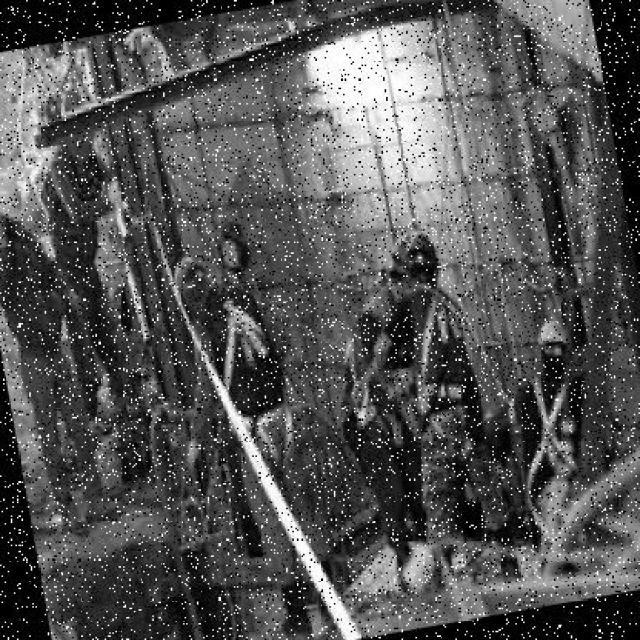Arnes_seguridad: (194, 280, 311, 477), (395, 268, 491, 461), (500, 367, 591, 547), (326, 332, 412, 438)
